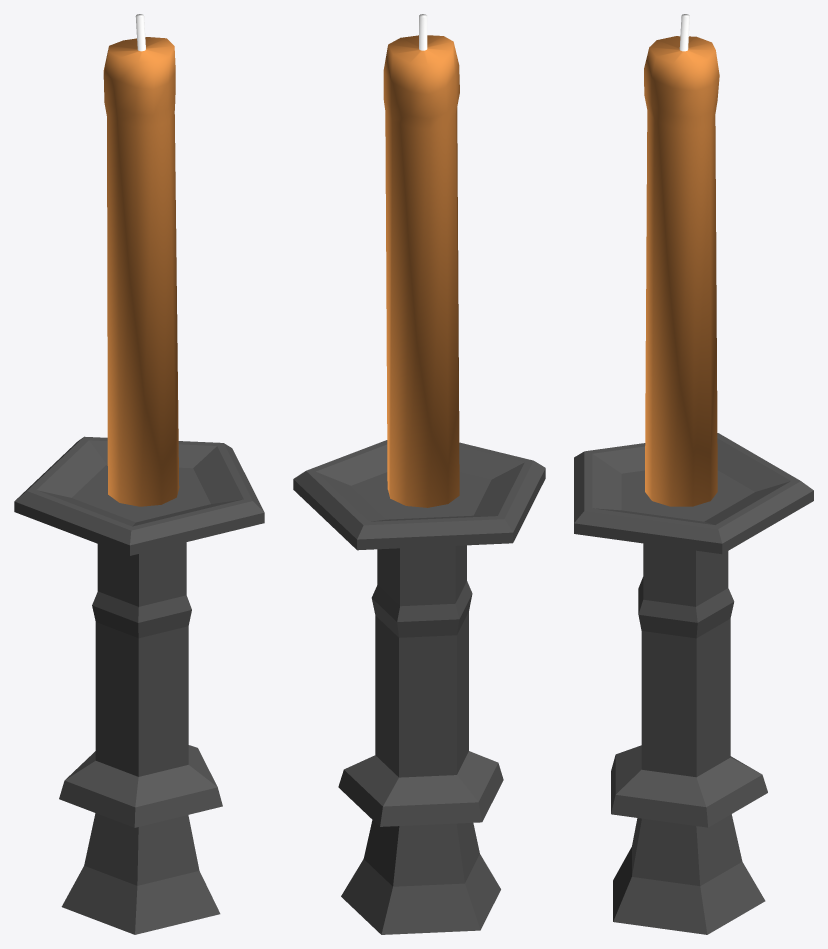
The model's file is candle.fbx.
3 renders of one model, left to right at view 1: azimuth 30°, elevation 25°; view 2: azimuth 150°, elevation 25°; view 3: azimuth 270°, elevation 25°, orthographic.
Visible parts, largest first — view 1: candle; view 2: candle; view 3: candle.
Part boxes in pixels (left/top/right/bottom): candle: left=14, top=14, right=264, bottom=934; candle: left=293, top=14, right=545, bottom=934; candle: left=574, top=14, right=813, bottom=934.
Bounding box in the file's own units: 0.1351 × 0.5228 × 0.1285.
